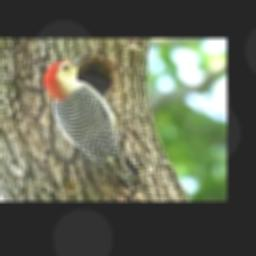Woodpecker: (43, 54, 151, 197)
